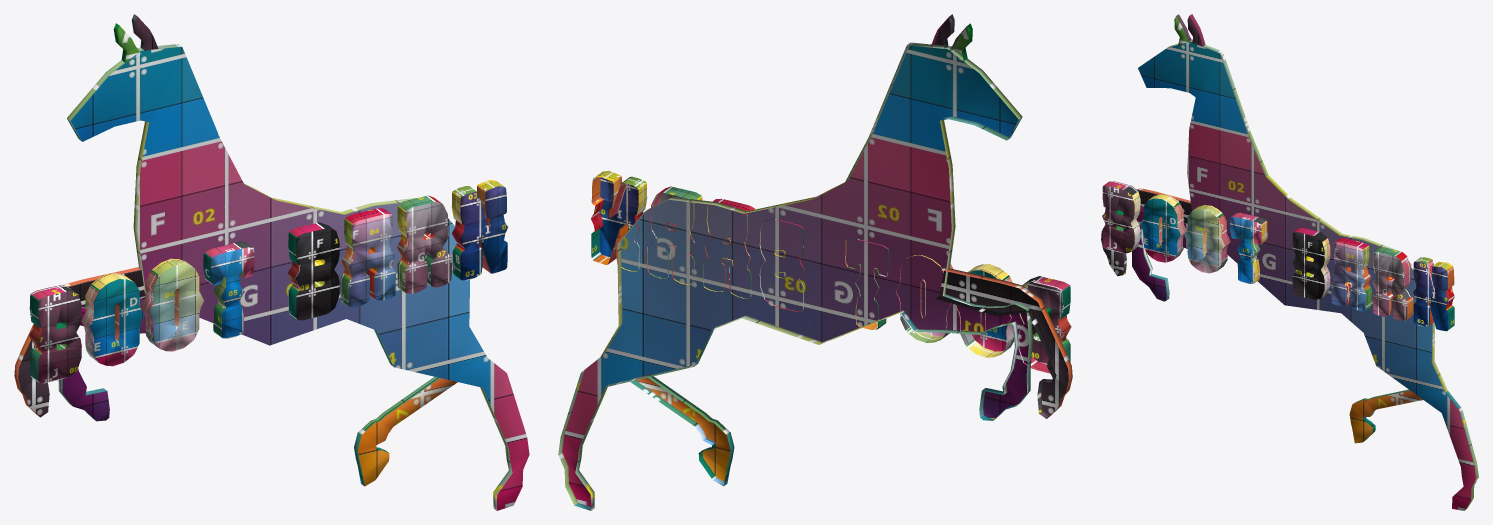
File: Boot_low.fbx
3 renders of one model, left to right at view 1: azimuth 30°, elevation 25°; view 2: azimuth 150°, elevation 25°; view 3: azimuth 330°, elevation 25°, orthographic. The views are drawn at different scales.
Visible parts, largest first — view 1: Base_low, Letters_low, Leg01_low, Leg02_low, Ears_low; view 2: Base_low, Letters_low, Leg02_low, Leg01_low, Ears_low; view 3: Base_low, Letters_low, Leg01_low, Leg02_low, Ears_low.
Boxes of the visible parts, bbox=[...] form: Base_low: bbox=[58, 44, 529, 510]; Letters_low: bbox=[29, 180, 508, 383]; Leg01_low: bbox=[354, 376, 457, 486]; Leg02_low: bbox=[14, 267, 144, 417]; Ears_low: bbox=[113, 14, 158, 63]; Base_low: bbox=[558, 42, 1032, 510]; Letters_low: bbox=[590, 170, 1071, 373]; Leg02_low: bbox=[935, 267, 1072, 418]; Leg01_low: bbox=[630, 374, 734, 486]; Ears_low: bbox=[929, 14, 972, 62]; Base_low: bbox=[1132, 40, 1478, 510]; Letters_low: bbox=[1102, 181, 1454, 331]; Leg01_low: bbox=[1349, 389, 1422, 443]; Leg02_low: bbox=[1101, 188, 1191, 276]; Ears_low: bbox=[1174, 14, 1205, 46].
Size of the model in its own units: 671 by 730 by 29.73.
2 materials, 2 textured.
